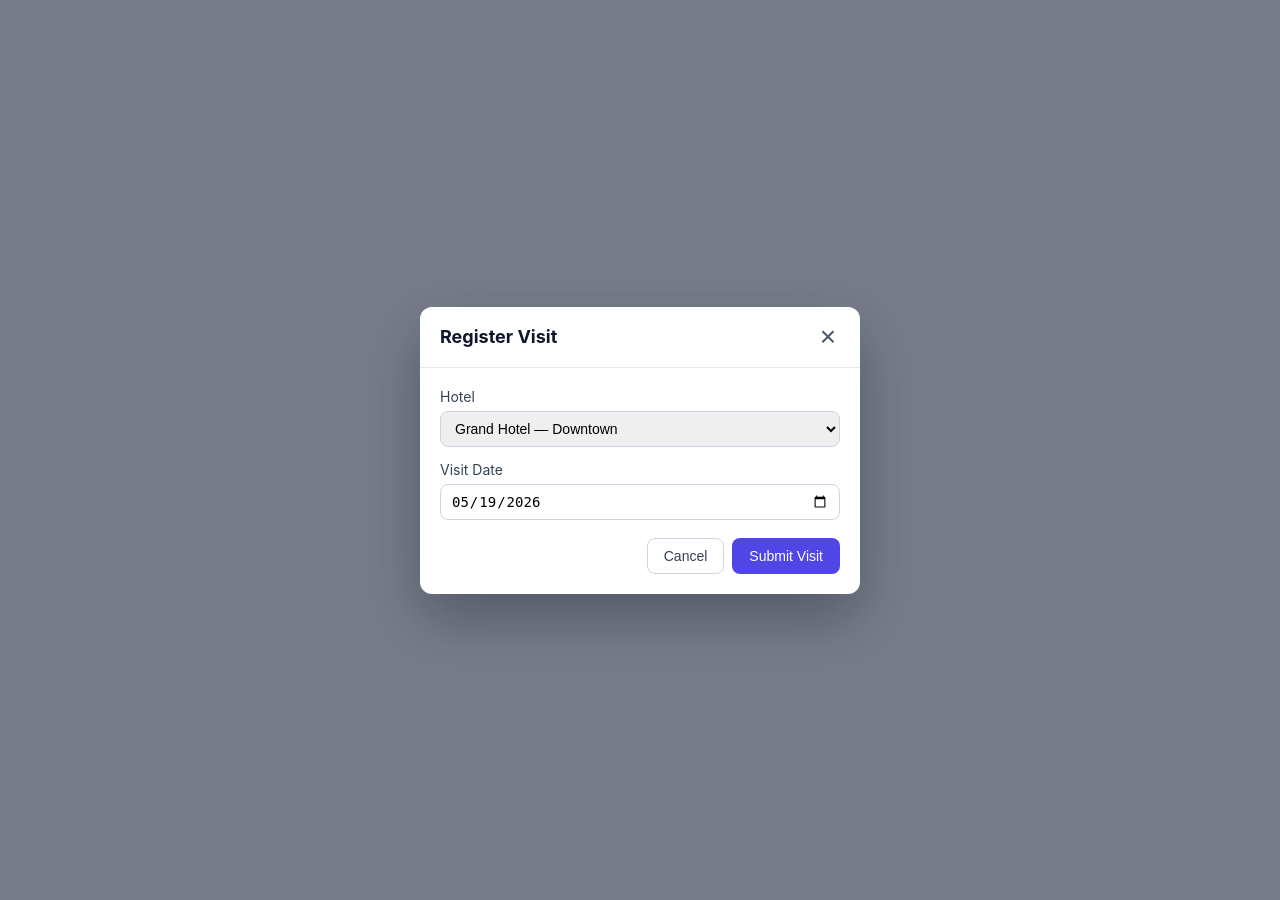
Test: VisitModal › shows server error banner on non-field failure (e.g. 409 conflict)
This screenshot has width=1280, height=900.
Step 1. Click the button "Submit Visit" → (786, 556), box [732,538,840,574]
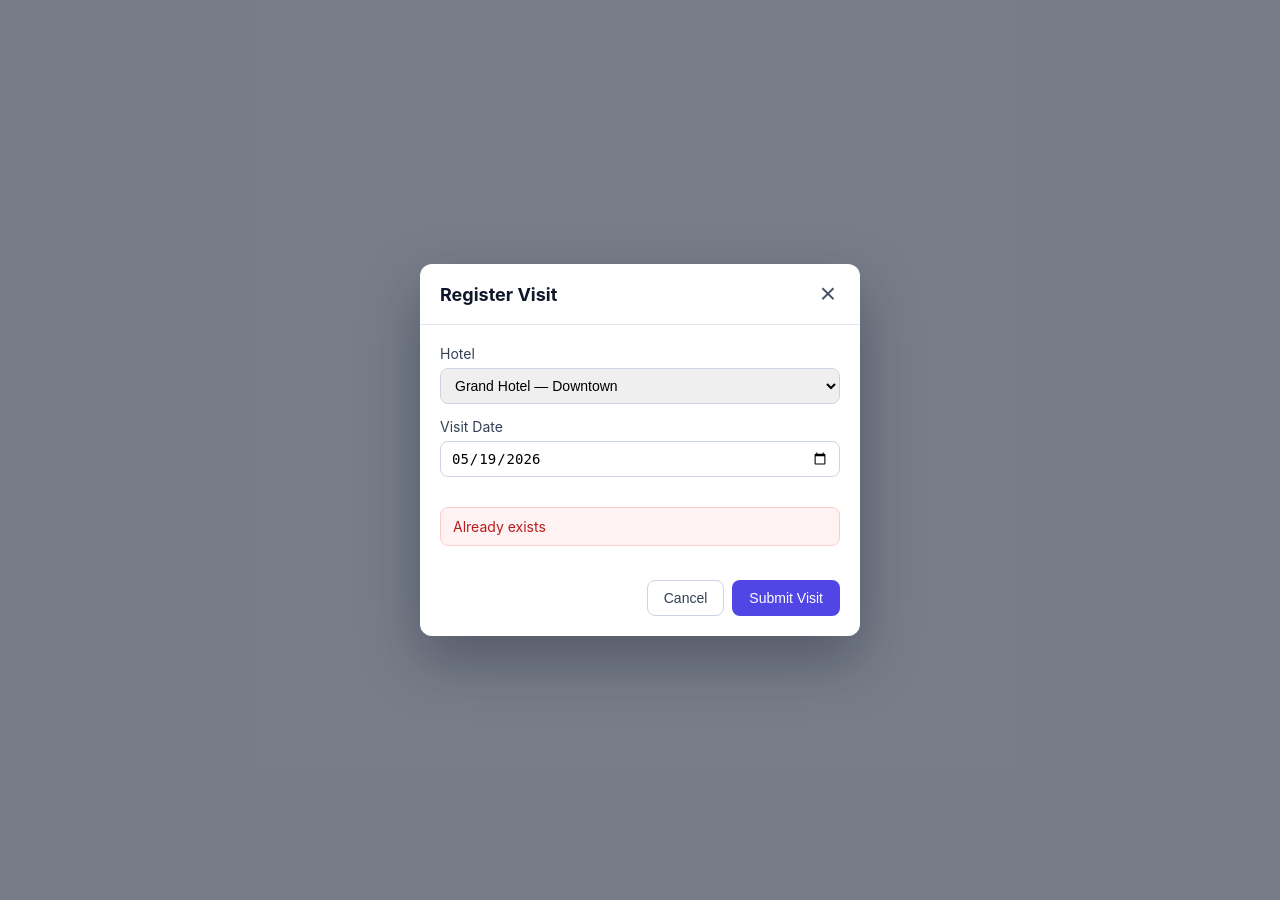
expect the text "Already exists" is shown: met, box [440,507,840,546]
